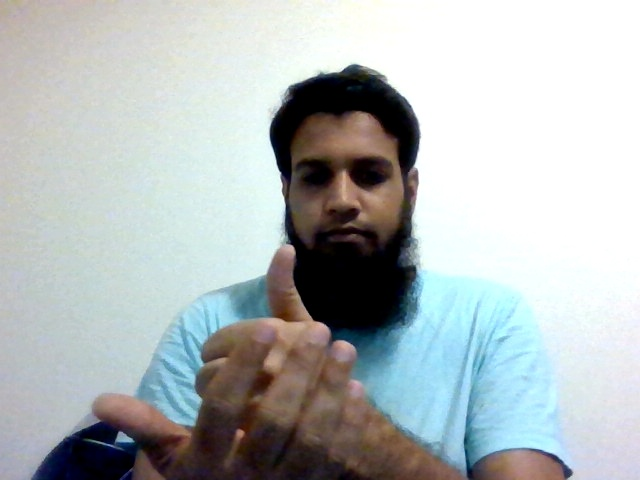help: (90, 243, 375, 479)
